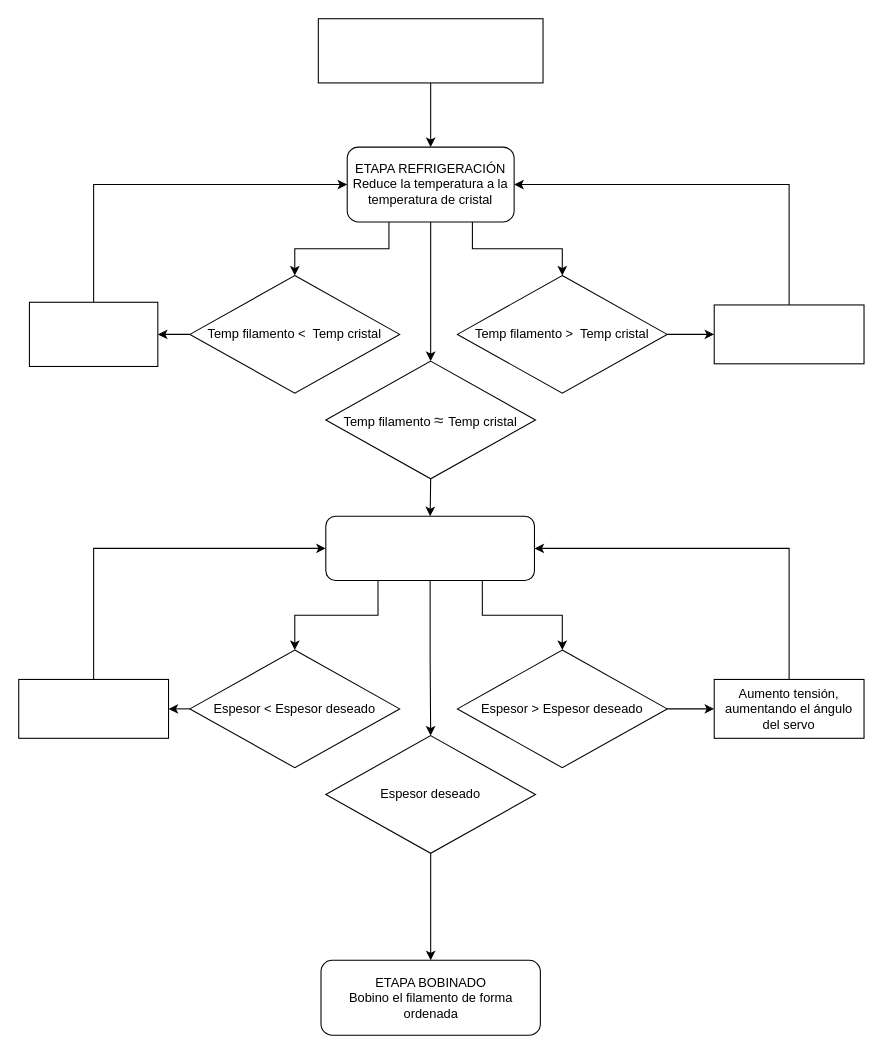
This 883x1054 diagram has some shape labels left out. Each missing label, with the centre of its shape:
"Apago Ventiladores" belongs at (x=93, y=333).
"Disminuyo tensión, disminuyendo el ángulo del servo" belongs at (x=93, y=708).
"Enciendo Ventiladores" belongs at (x=788, y=334).
"ETAPA CONTROL Controla el espesor del filamento" belongs at (x=429, y=547).
"EXTRUSORA Sale filamento a temperatura elevada" belongs at (x=430, y=50).
